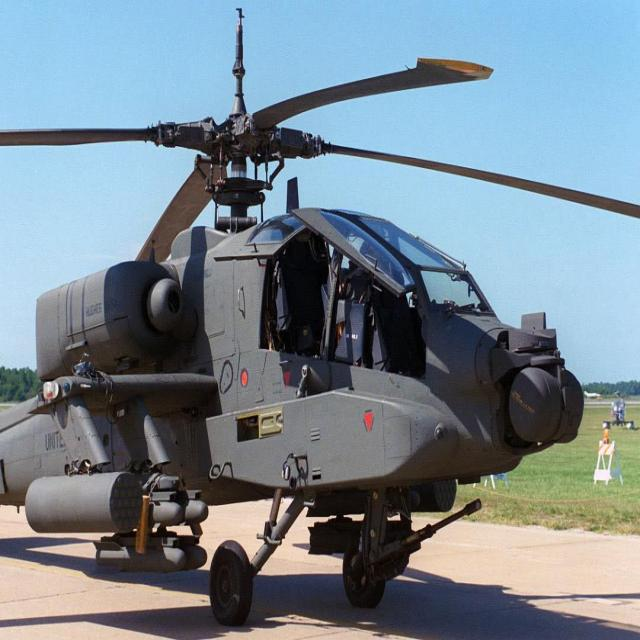MIL_HELO: (0, 58, 610, 610)
